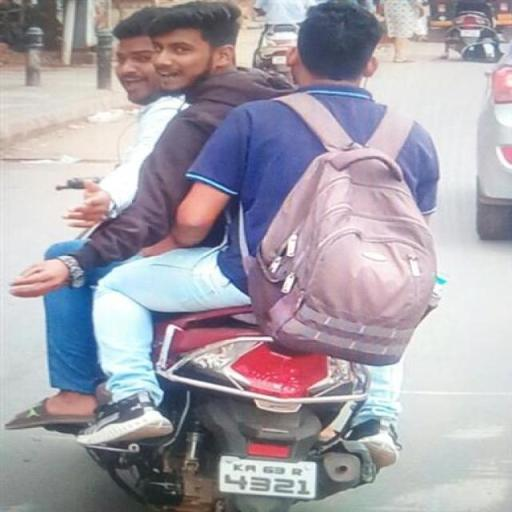tripple riding: (2, 2, 471, 313)
